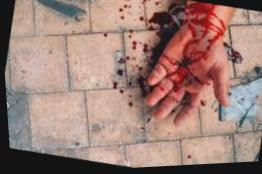Fire: (141, 4, 226, 91), (110, 51, 130, 95), (125, 32, 137, 53), (126, 104, 131, 108), (138, 18, 143, 22), (184, 157, 189, 161), (119, 17, 123, 21), (143, 0, 146, 5), (118, 10, 122, 13), (102, 35, 106, 38), (123, 6, 126, 9), (155, 4, 158, 7), (127, 0, 130, 2), (128, 7, 130, 9)
